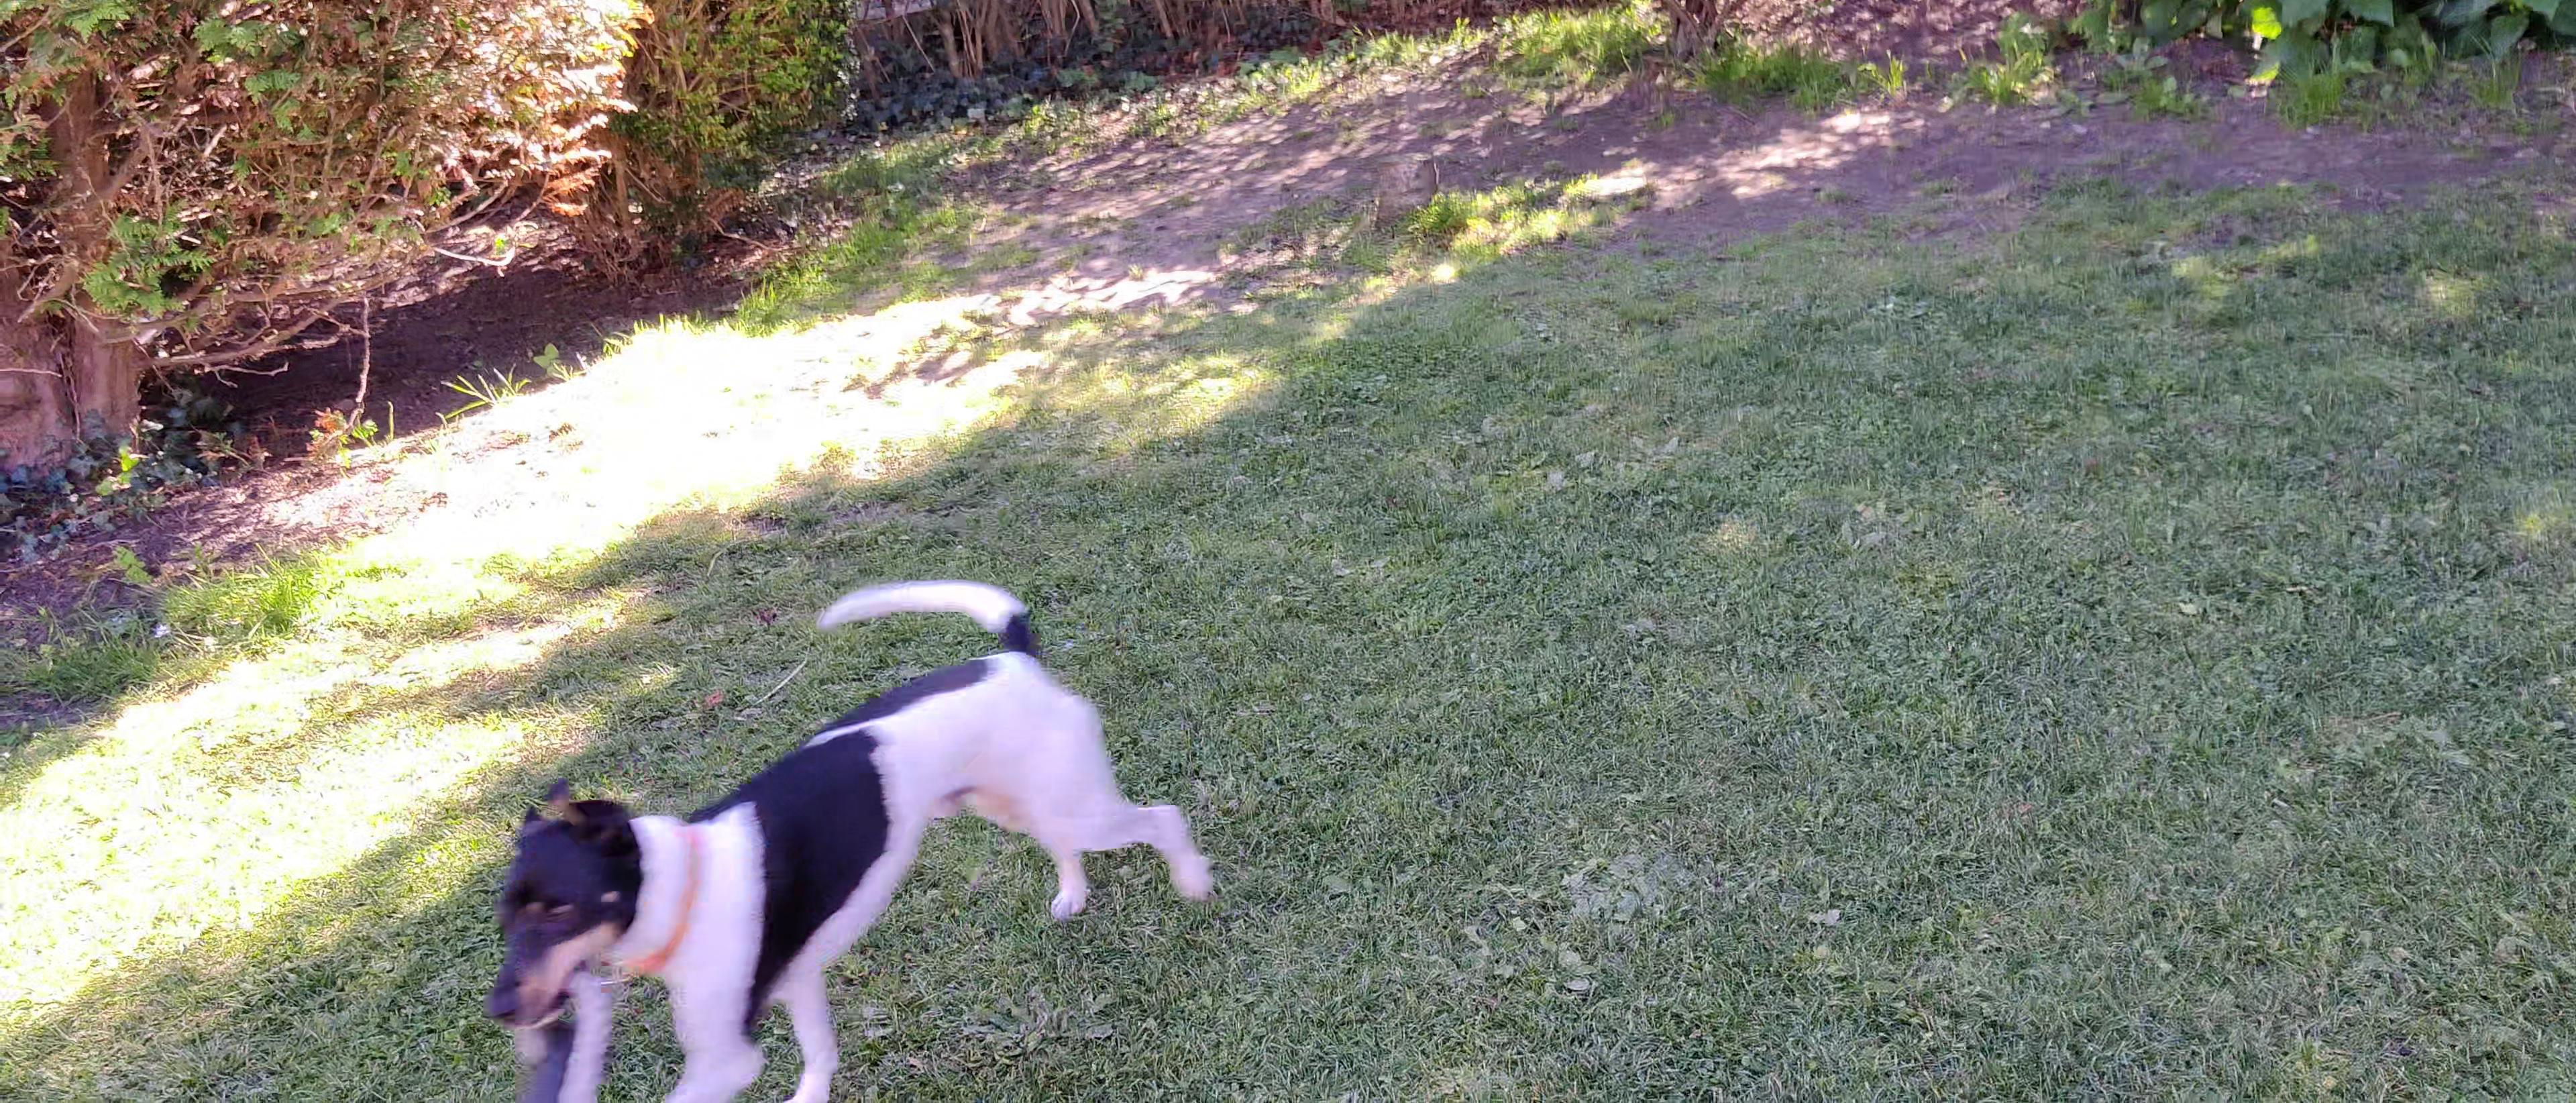Dog: (465, 575, 1227, 1103)
